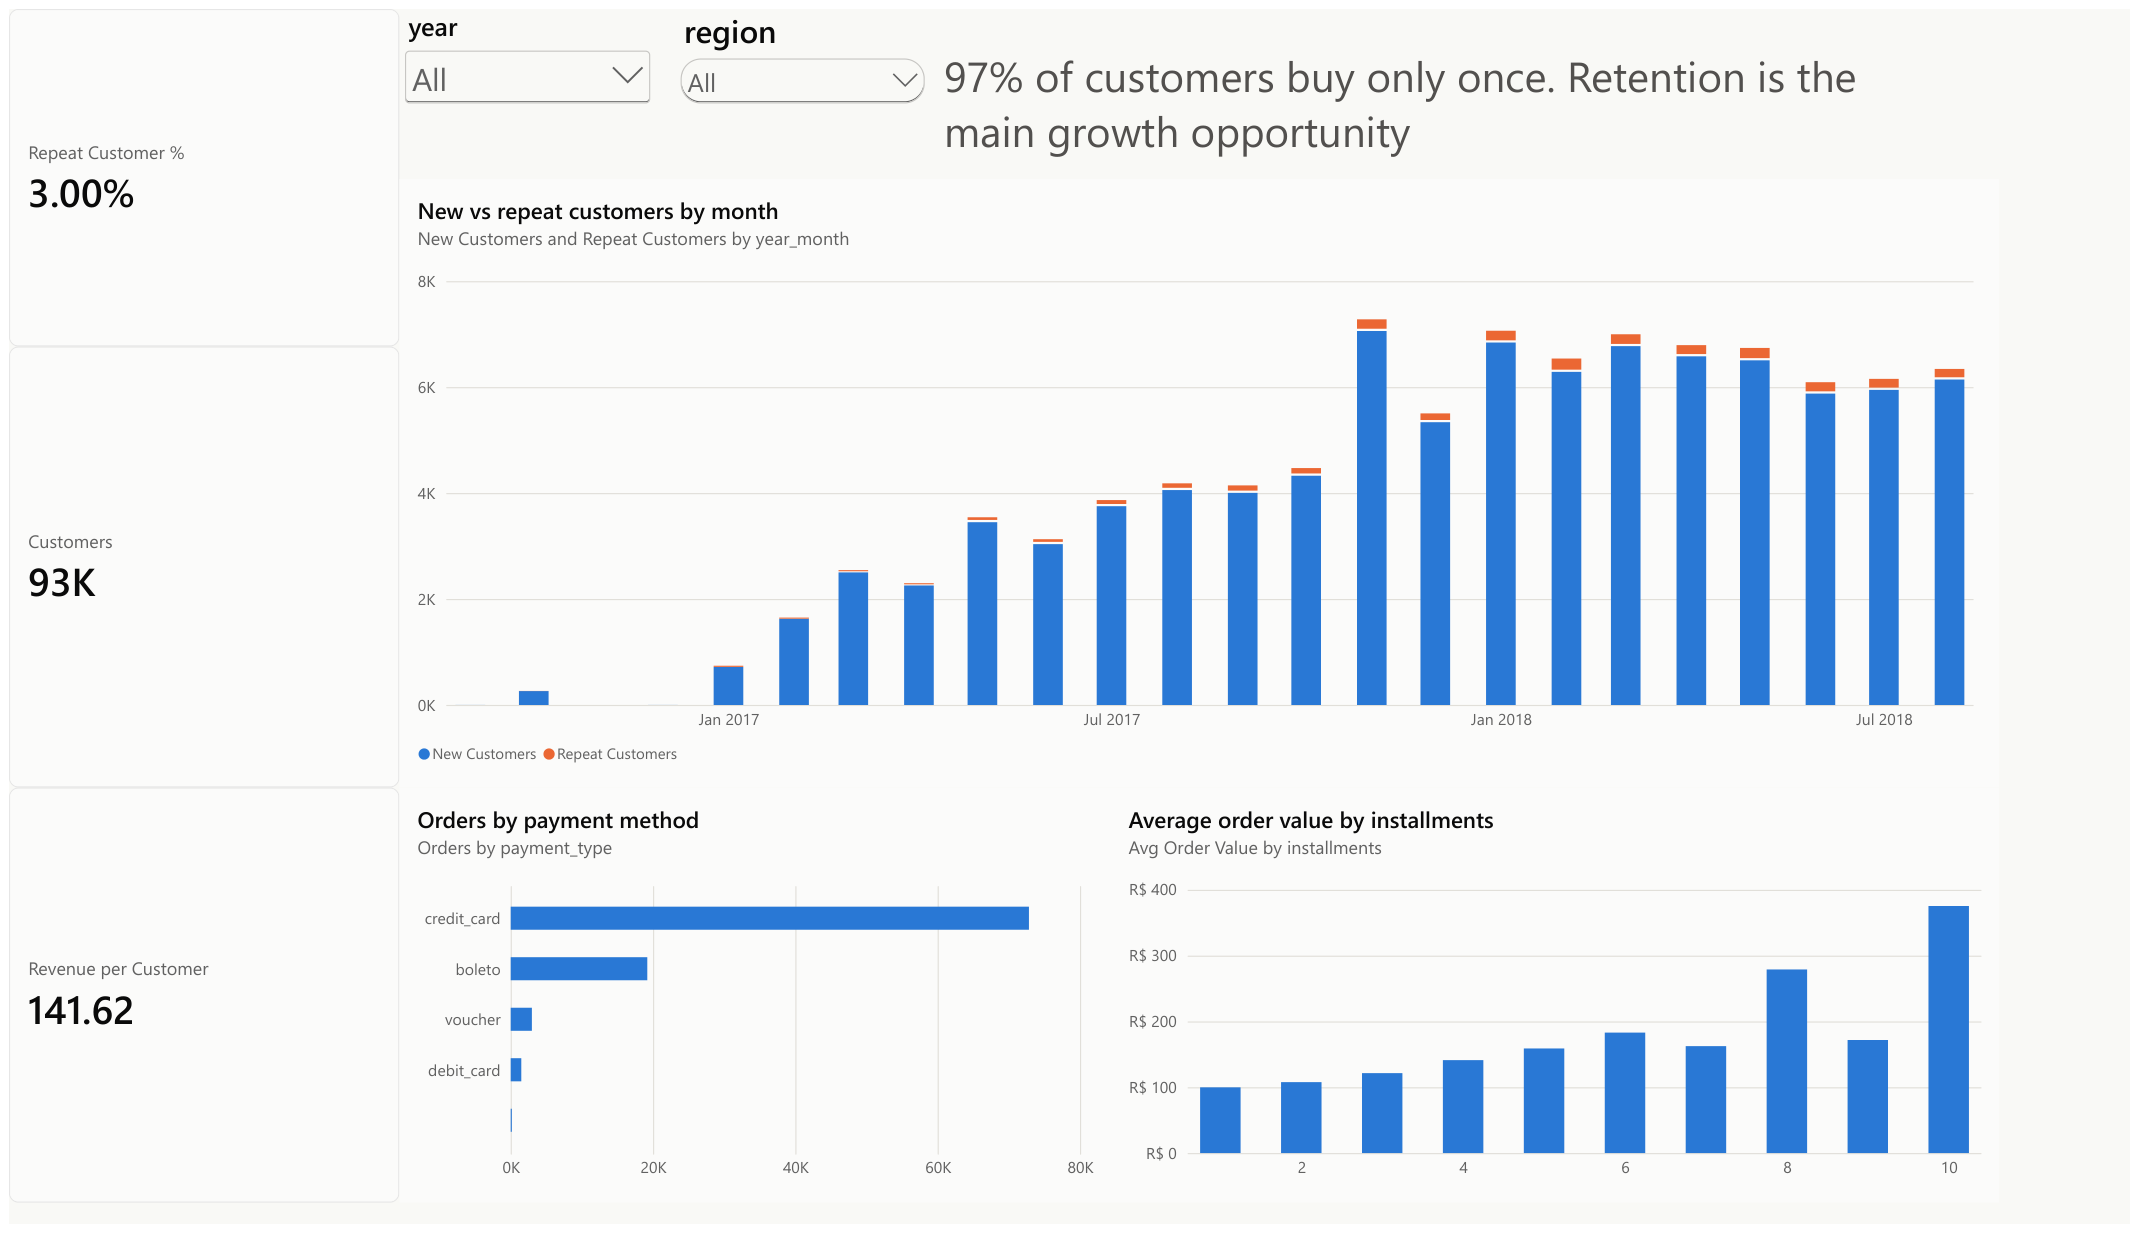

The dashboard page shown, as its layout file describes it:
{"tool":"powerbi","page":{"name":"Customers & Retention","canvas":[1920,1080],"ordinal":1},"visuals":[{"type":"slicer","fields":{"Values":["dim_date.year"]},"box":[347.5,0,227.8,184.2],"z":0},{"type":"slicer","fields":{"Values":["dim_state.region"]},"box":[591.5,0,227.8,162.5],"z":1000},{"type":"cardVisual","fields":{"Data":["fact_orders.Repeat Customer %"]},"box":[0,0,347.5,300],"z":2000},{"type":"cardVisual","fields":{"Data":["fact_orders.Customers"]},"box":[0,300,347.5,391.5],"z":3000},{"type":"cardVisual","fields":{"Data":["fact_orders.Revenue per Customer"]},"box":[0,691.5,347.5,369.5],"z":4000},{"type":"columnChart","title":"New vs repeat customers by month","fields":{"Category":["dim_date.year_month"],"Y":["fact_orders.New Customers","fact_orders.Repeat Customers"]},"box":[347.5,150.8,1422,540.7],"z":5000},{"type":"barChart","title":"Orders by payment method","fields":{"Category":["fact_orders.payment_type"],"Y":["fact_orders.Orders"]},"box":[347.5,691.5,632.2,369.5],"z":6000},{"type":"clusteredColumnChart","title":"Average order value by installments","fields":{"Category":["fact_orders.installments"],"Y":["fact_orders.Avg Order Value"]},"box":[979,692,790,369],"z":7000},{"type":"textbox","box":[830.5,13.6,878,137.3],"z":8001}]}

Visuals, with their boxes in screenshot pixels (x1, y1, x2, y2), scaled from the page's 1920x1080 canvas onto the 2130x1233 screenshot:
slicer - dim_date.year: 386, 0, 638, 210
slicer - dim_state.region: 656, 0, 909, 186
cardVisual - fact_orders.Repeat Customer %: 0, 0, 386, 342
cardVisual - fact_orders.Customers: 0, 342, 386, 789
cardVisual - fact_orders.Revenue per Customer: 0, 789, 386, 1211
"New vs repeat customers by month" columnChart: 386, 172, 1963, 789
"Orders by payment method" barChart: 386, 789, 1087, 1211
"Average order value by installments" clusteredColumnChart: 1086, 790, 1962, 1211
textbox: 921, 16, 1895, 172
